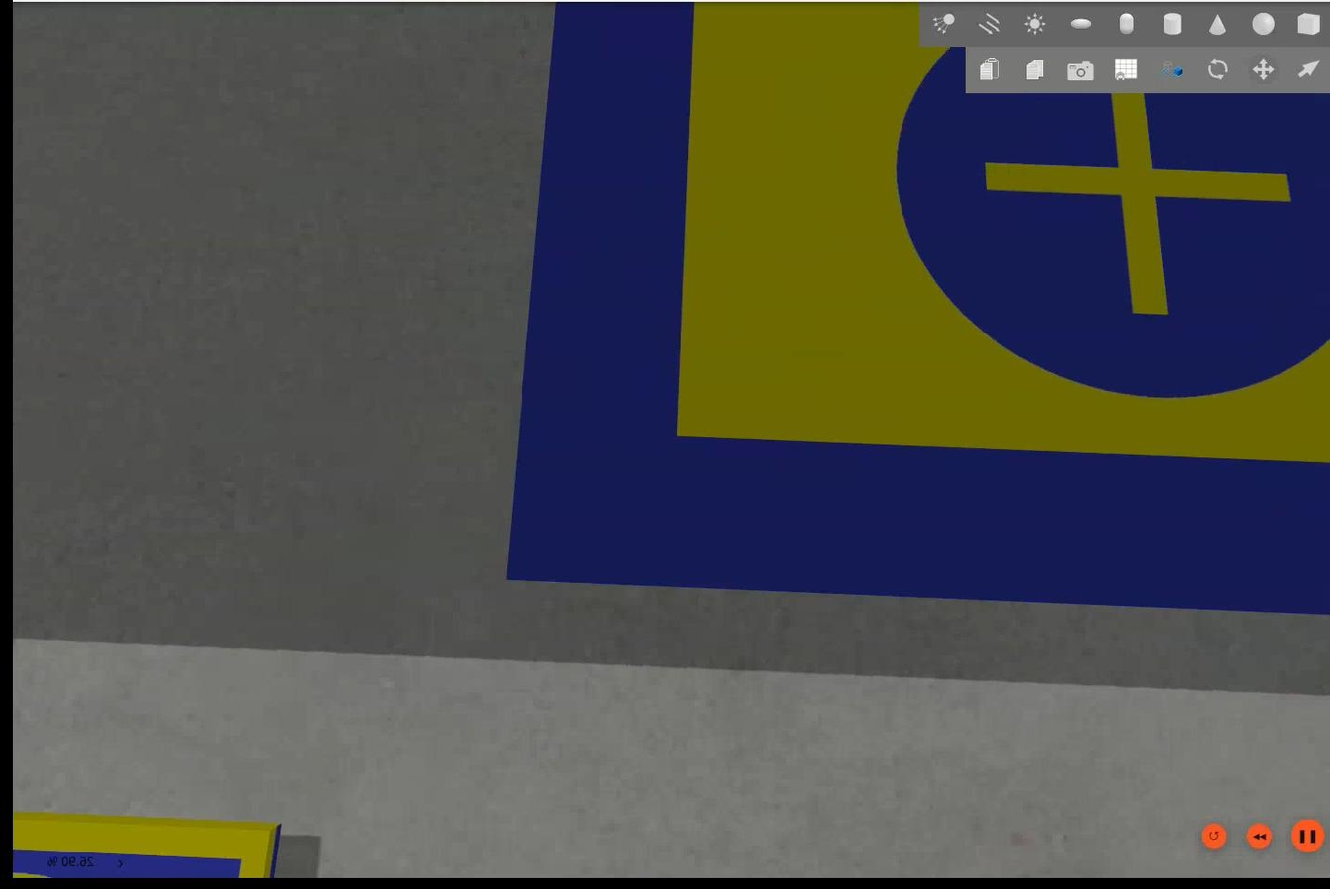large_base: (499, 4, 1328, 615)
